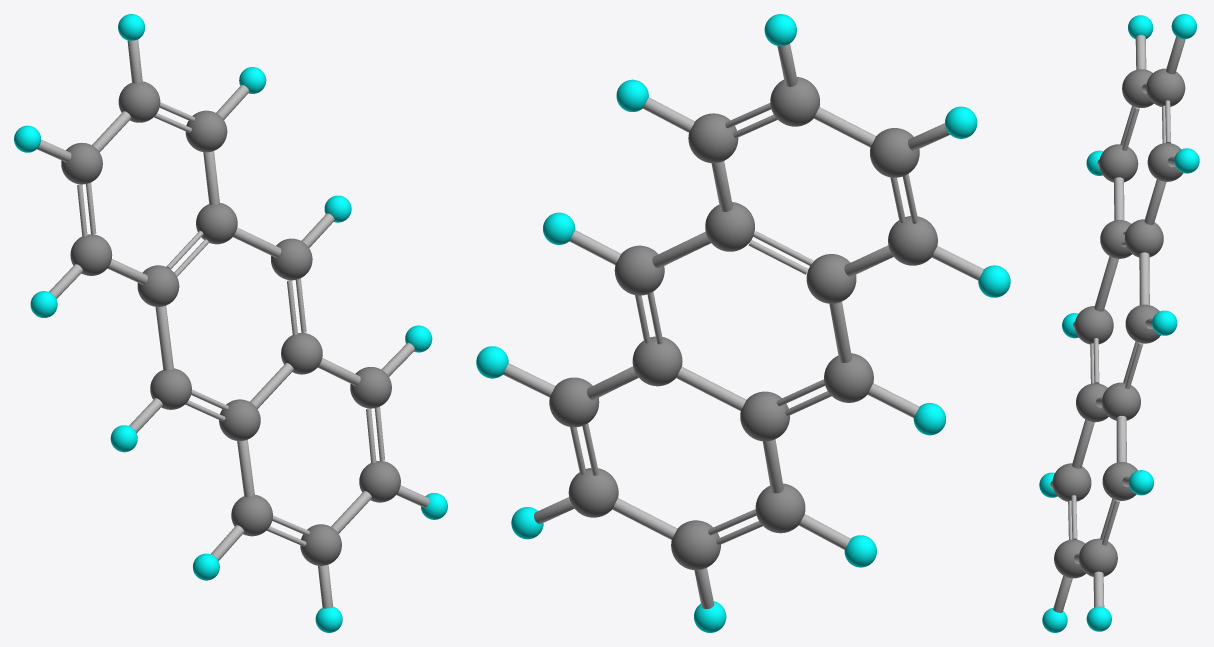
Rendered from anthracene.glb.
The picture shows the model from 3 angles, left to right: view 1: azimuth 30°, elevation 25°; view 2: azimuth 150°, elevation 25°; view 3: azimuth 270°, elevation 25°; orthographic projection. The views are drawn at different scales.
Visible parts, largest first — view 1: CMAtom_1, CMAtom_0, CMAtom_11, CMAtom_12, CMAtom_18, CMAtom_17, CMAtom_5, CMAtom_2, CMAtom_19, CMAtom_13, CMAtom_4, CMAtom_16 (+8 smaller); view 2: CMAtom_0, CMAtom_17, CMAtom_11, CMAtom_12, CMAtom_5, CMAtom_18, CMAtom_1, CMAtom_3, CMAtom_16, CMAtom_2, CMAtom_19, CMAtom_10 (+17 smaller); view 3: CMAtom_19, CMAtom_13, CMAtom_11, CMAtom_2, CMAtom_5, CMAtom_17, CMAtom_1, CMAtom_0, CMAtom_10, CMAtom_16, CMAtom_12, CMAtom_3 (+28 smaller).
Part boxes in pixels (left/top/right/bottom): CMAtom_1: left=196, top=203, right=237, bottom=244; CMAtom_0: left=185, top=110, right=227, bottom=152; CMAtom_11: left=281, top=333, right=322, bottom=374; CMAtom_12: left=219, top=399, right=260, bottom=440; CMAtom_18: left=300, top=524, right=341, bottom=565; CMAtom_17: left=359, top=461, right=400, bottom=502; CMAtom_5: left=70, top=234, right=112, bottom=275; CMAtom_2: left=118, top=81, right=160, bottom=122; CMAtom_19: left=231, top=495, right=272, bottom=536; CMAtom_13: left=150, top=368, right=191, bottom=409; CMAtom_4: left=61, top=142, right=102, bottom=184; CMAtom_16: left=350, top=367, right=391, bottom=408; CMAtom_0: left=688, top=113, right=738, bottom=163; CMAtom_17: left=568, top=468, right=618, bottom=517; CMAtom_11: left=632, top=336, right=682, bottom=386; CMAtom_12: left=740, top=391, right=789, bottom=441; CMAtom_5: left=888, top=216, right=937, bottom=265; CMAtom_18: left=671, top=520, right=720, bottom=570; CMAtom_1: left=705, top=202, right=754, bottom=251; CMAtom_3: left=806, top=254, right=856, bottom=303; CMAtom_16: left=549, top=377, right=599, bottom=427; CMAtom_2: left=770, top=77, right=819, bottom=126; CMAtom_19: left=755, top=483, right=805, bottom=533; CMAtom_10: left=614, top=245, right=664, bottom=295; CMAtom_19: left=1052, top=463, right=1091, bottom=501; CMAtom_13: left=1074, top=306, right=1113, bottom=344; CMAtom_11: left=1102, top=382, right=1140, bottom=420; CMAtom_2: left=1146, top=68, right=1185, bottom=106; CMAtom_5: left=1099, top=144, right=1138, bottom=182; CMAtom_17: left=1079, top=538, right=1117, bottom=576; CMAtom_1: left=1124, top=219, right=1163, bottom=257; CMAtom_0: left=1147, top=143, right=1183, bottom=181; CMAtom_10: left=1125, top=304, right=1160, bottom=343; CMAtom_16: left=1102, top=462, right=1137, bottom=500; CMAtom_12: left=1076, top=383, right=1108, bottom=422; CMAtom_3: left=1100, top=220, right=1131, bottom=258.
Bounding box in the file's own units: 7.17 × 9.73 × 2.53.
